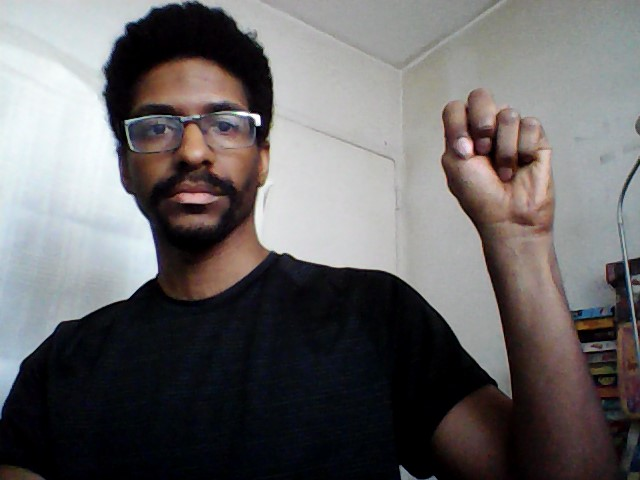n: (435, 86, 561, 232)
